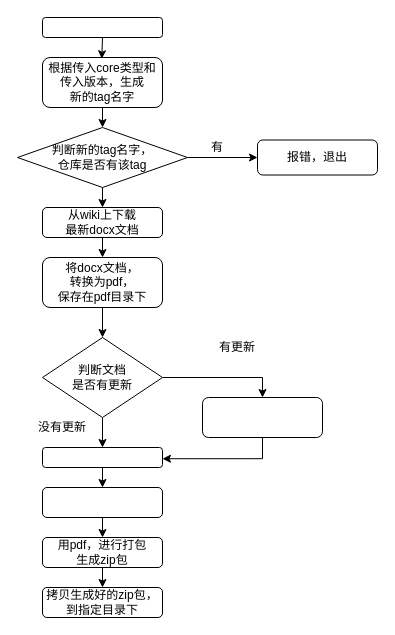
Some shapes in this 395 by 635 pixel diagram are drawn without their labels. The box of each missing label's shape, as (x1, y1, x2, y2) in pixels:
clone nuclei_doc仓库: (42, 16, 162, 38)
git操作 add commit: (202, 396, 322, 438)
git操作 push: (42, 486, 162, 518)
打tag: (42, 446, 162, 468)
